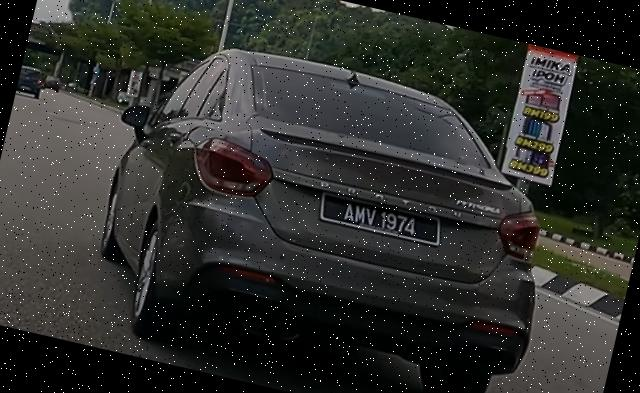License_Plate: (316, 188, 448, 248)
car: (74, 21, 581, 393)
